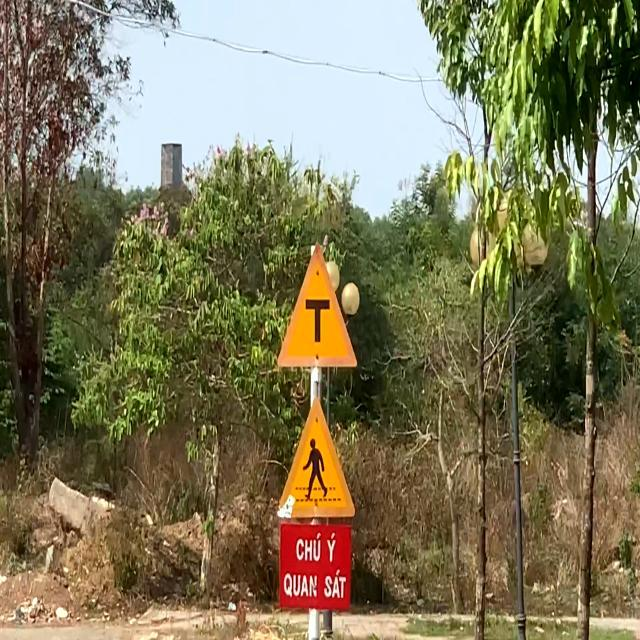Nguoi di bo cat ngang: (274, 396, 356, 522)
